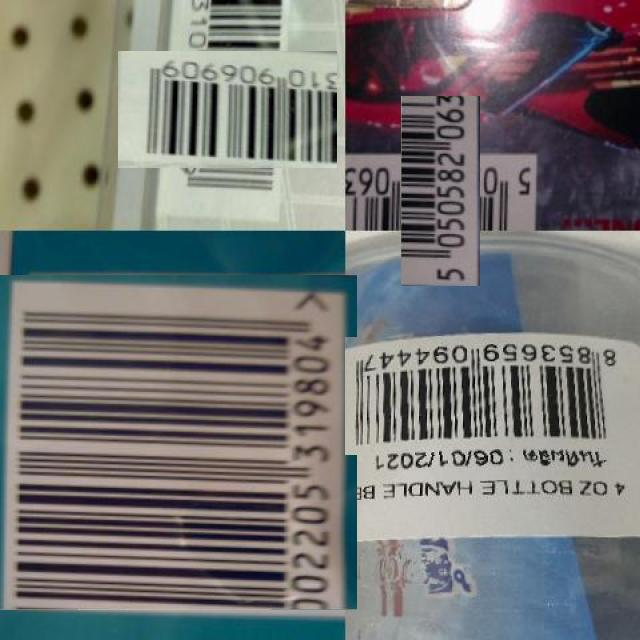Barcode: (4, 268, 352, 616), (346, 337, 630, 455), (144, 25, 312, 194), (373, 124, 508, 259)
